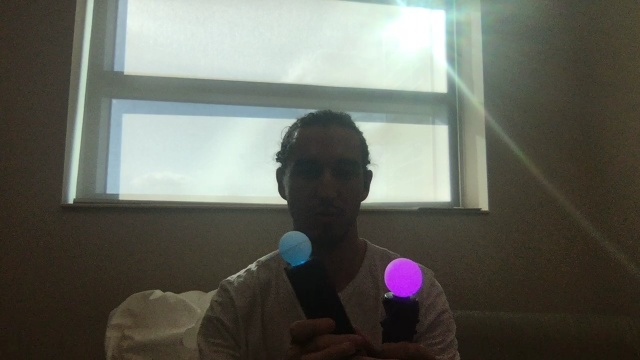wand: (386, 258, 423, 297), (281, 232, 312, 264)
